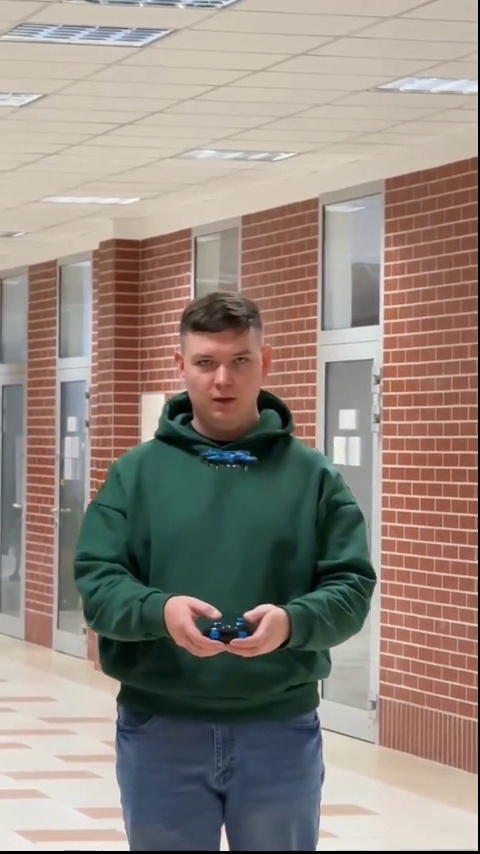drone: (199, 447, 259, 468)
no vest: (80, 292, 373, 834)
